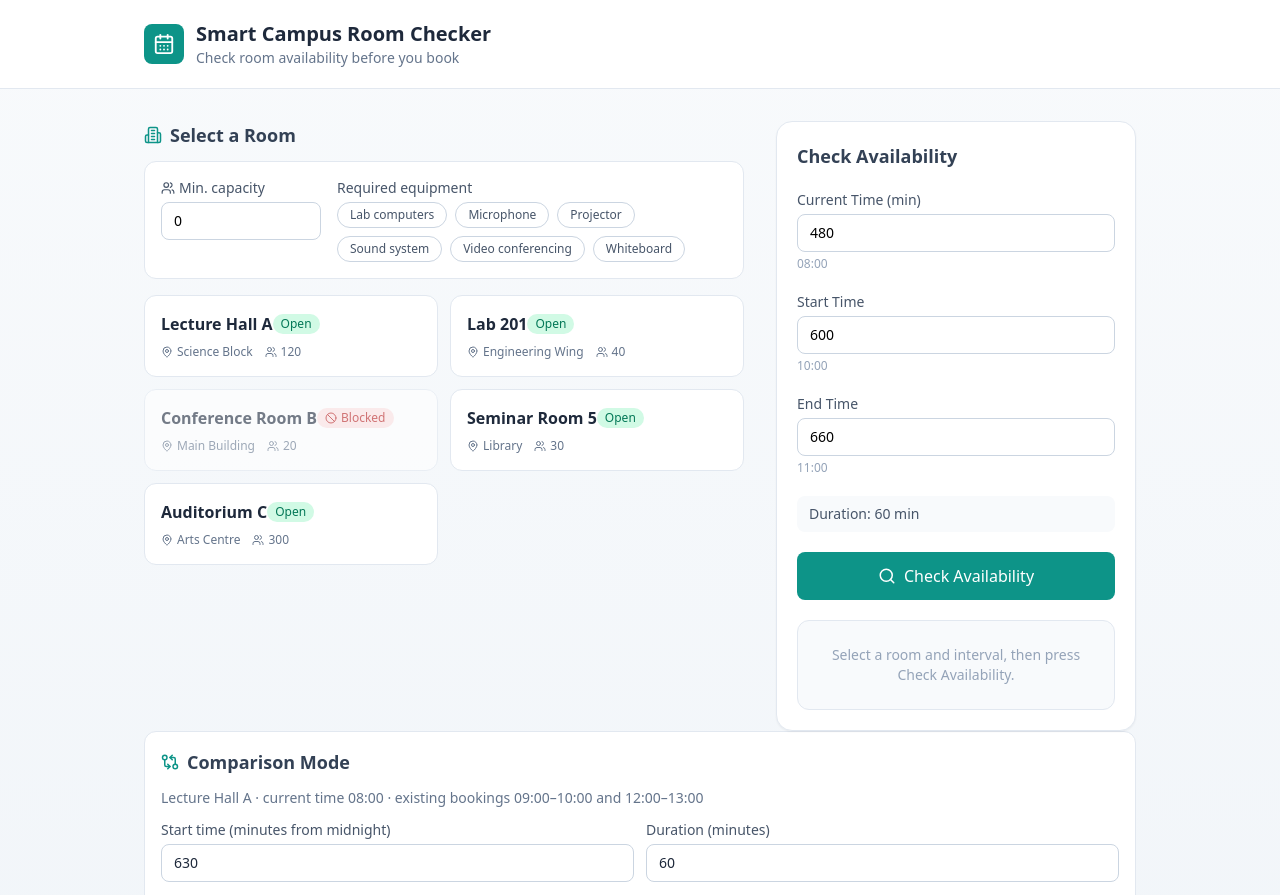
Test: App integration tests › checks availability through the UI
The width and height of the screenshot is (1280, 895).
Click the button "Lecture Hall A Open Science Block 120" at (291, 336), box [144, 295, 438, 377]
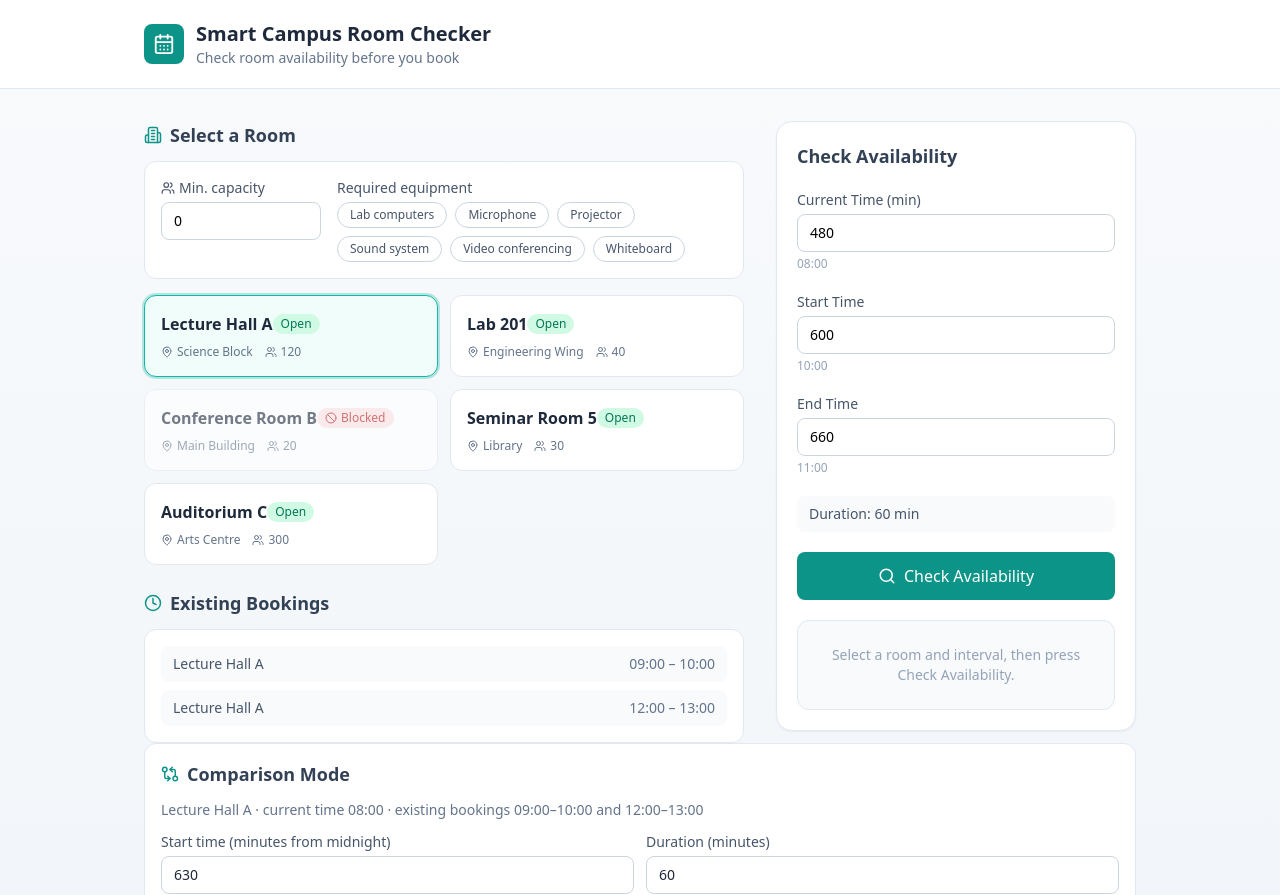
Click the button "Check Availability" at (956, 576), box [797, 552, 1115, 600]
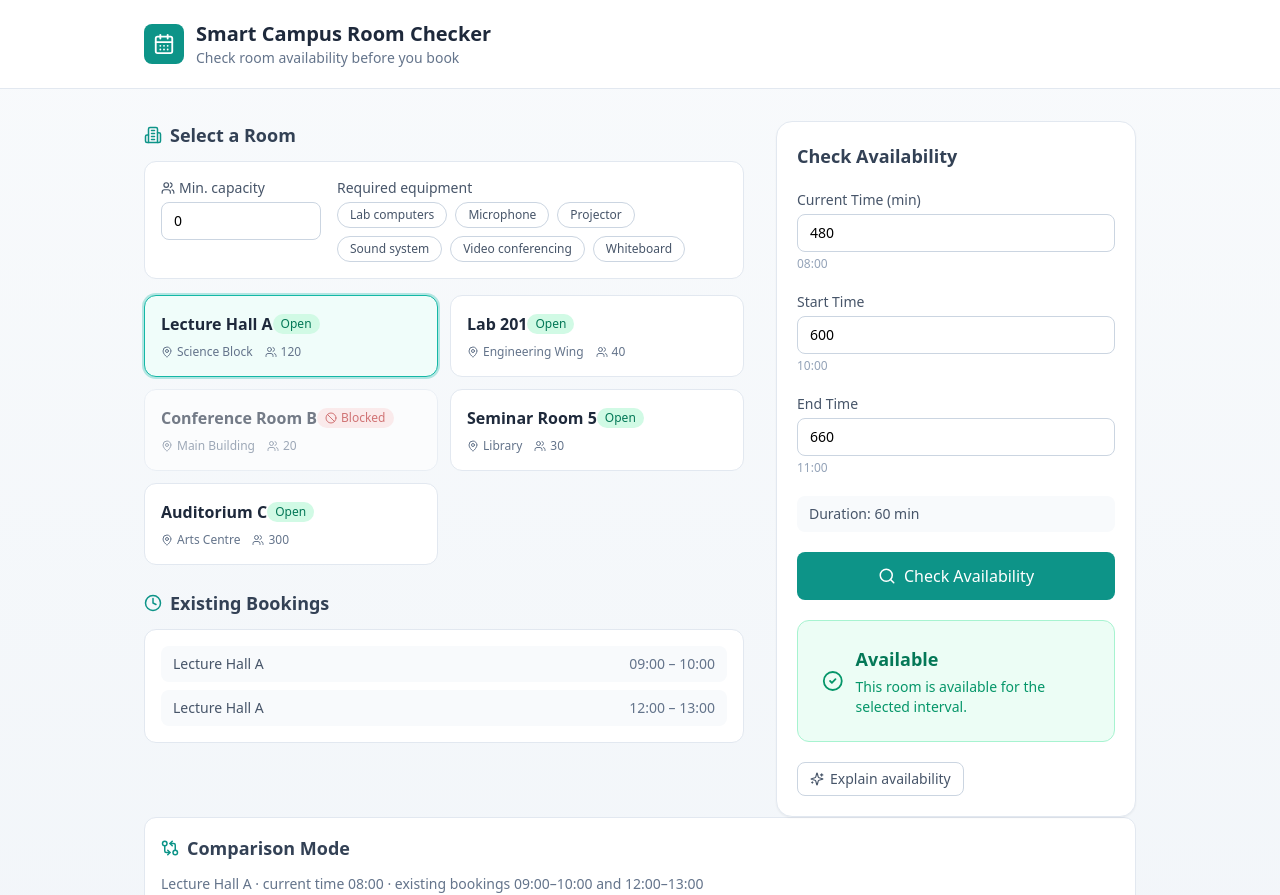
Expected: the text "Available" is shown, [856, 647, 938, 671]
